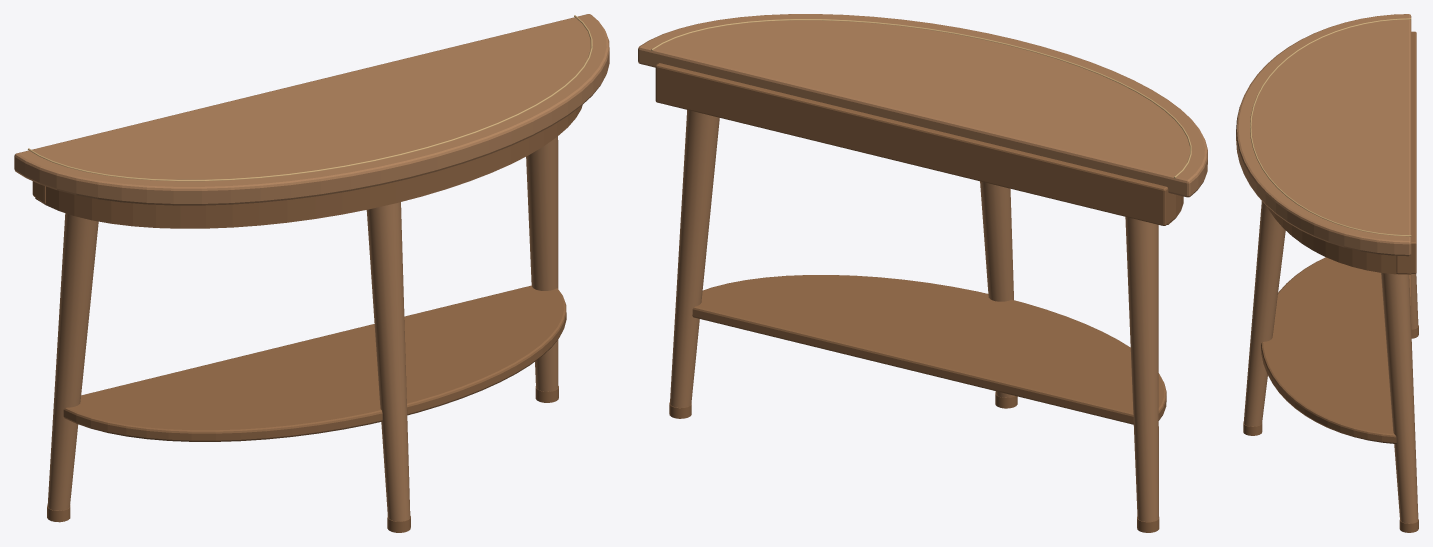
The model's file is table_demilune.glb.
The picture shows the model from 3 angles, left to right: view 1: azimuth 30°, elevation 25°; view 2: azimuth 150°, elevation 25°; view 3: azimuth 270°, elevation 25°; orthographic projection. The views are drawn at different scales.
Parts seen in each view (by area): view 1: Demilune half-round console top, Demilune matching lower half-round shelf, Demilune curved front apron, Demilune tapered leg.002, Demilune tapered leg, Demilune tapered leg.001, Demilune inset top edge; view 2: Demilune half-round console top, Demilune matching lower half-round shelf, Demilune straight rear apron, Demilune tapered leg, Demilune tapered leg.001, Demilune tapered leg.002, Demilune inset top edge; view 3: Demilune half-round console top, Demilune matching lower half-round shelf, Demilune tapered leg.001, Demilune tapered leg.002, Demilune curved front apron, Demilune straight rear apron, Demilune inset top edge, Demilune tapered leg.
Part boxes in pixels (left/top/right/bottom): Demilune half-round console top: left=14, top=14, right=609, bottom=205; Demilune matching lower half-round shelf: left=63, top=285, right=566, bottom=441; Demilune curved front apron: left=35, top=105, right=582, bottom=228; Demilune tapered leg.002: left=366, top=202, right=410, bottom=521; Demilune tapered leg: left=47, top=213, right=98, bottom=510; Demilune tapered leg.001: left=526, top=136, right=558, bottom=391; Demilune inset top edge: left=28, top=15, right=592, bottom=181; Demilune half-round console top: left=638, top=14, right=1207, bottom=197; Demilune matching lower half-round shelf: left=692, top=275, right=1166, bottom=424; Demilune straight rear apron: left=655, top=63, right=1176, bottom=225; Demilune tapered leg: left=1125, top=217, right=1158, bottom=521; Demilune tapered leg.001: left=670, top=110, right=719, bottom=407; Demilune tapered leg.002: left=980, top=181, right=1014, bottom=397; Demilune inset top edge: left=651, top=19, right=1191, bottom=178; Demilune half-round console top: left=1236, top=14, right=1411, bottom=256; Demilune matching lower half-round shelf: left=1261, top=257, right=1411, bottom=443; Demilune tapered leg.001: left=1381, top=273, right=1418, bottom=523; Demilune tapered leg.002: left=1243, top=201, right=1285, bottom=426; Demilune curved front apron: left=1267, top=206, right=1411, bottom=274; Demilune straight rear apron: left=1396, top=31, right=1416, bottom=273; Demilune inset top edge: left=1250, top=18, right=1411, bottom=236; Demilune tapered leg: left=1411, top=274, right=1418, bottom=329.
Size of the model in its own units: 1.3 by 0.8067 by 0.438.
